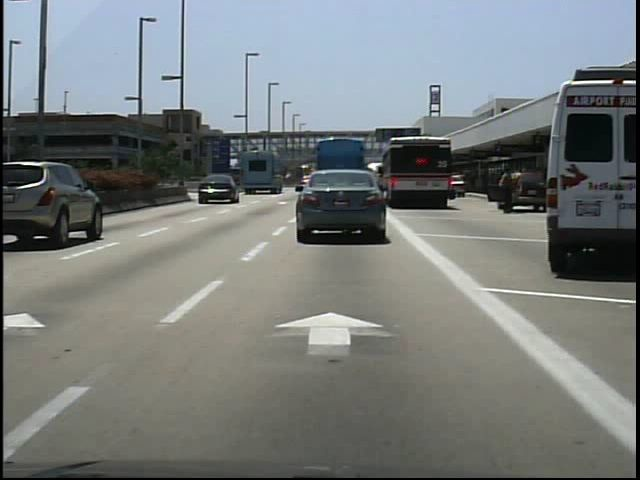person: (496, 165, 518, 217)
